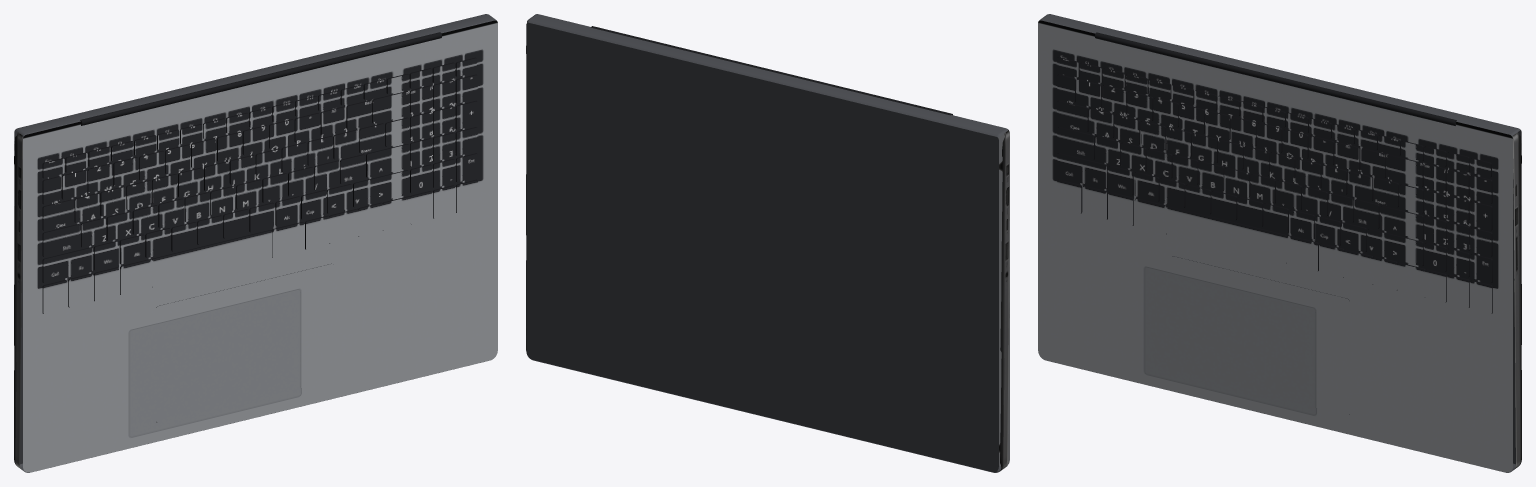
Rendered from body.obj.
3 renders of one model, left to right at view 1: azimuth 30°, elevation 25°; view 2: azimuth 150°, elevation 25°; view 3: azimuth 330°, elevation 25°, orthographic.
Parts seen in each view (by area): view 1: deck, keys.001, keys, base, base.002, hinge, base.003; view 2: base.003, base, base.002, deck, hinge; view 3: deck, keys.001, keys, base, base.001, hinge, base.003.
Part boxes in pixels (x1,y1,x2,y2): deck: [23, 20, 497, 472]; keys.001: [43, 58, 477, 313]; keys: [42, 57, 477, 313]; base: [15, 14, 496, 472]; base.002: [14, 132, 23, 469]; hinge: [80, 32, 441, 125]; base.003: [14, 130, 23, 464]; base.003: [526, 22, 998, 472]; base: [527, 14, 1008, 472]; base.002: [999, 130, 1009, 470]; deck: [998, 130, 1009, 465]; hinge: [591, 26, 952, 115]; deck: [1038, 20, 1512, 472]; keys.001: [1057, 57, 1491, 313]; keys: [1058, 57, 1492, 313]; base: [1039, 14, 1520, 472]; base.001: [1512, 132, 1521, 469]; hinge: [1094, 32, 1456, 125]; base.003: [1512, 130, 1521, 464].
Bounding box in the file's own units: 355 × 243 × 14.45.
